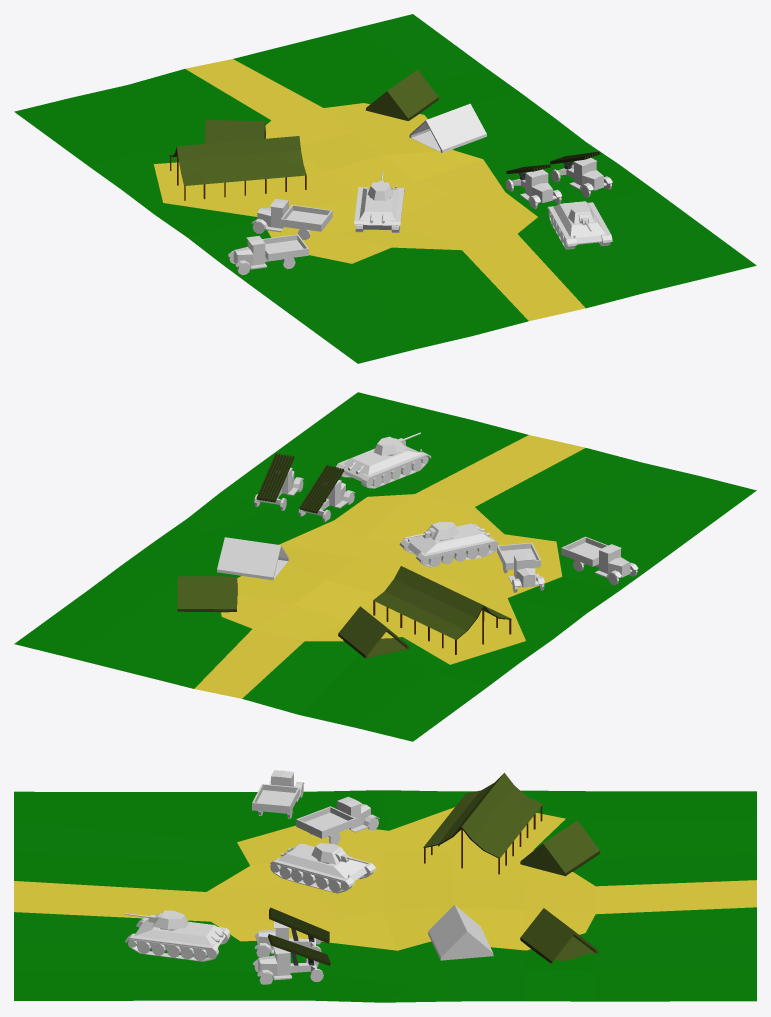
File: MainMenuScene.fbx
The picture shows the model from 3 angles, top to bottom: view 1: azimuth 30°, elevation 25°; view 2: azimuth 150°, elevation 25°; view 3: azimuth 270°, elevation 25°; orthographic projection. The views are drawn at different scales.
Visible parts, largest first — view 1: Plane, Tent, ArmyTent, ArmyTent.001, Hull.001, Hull, ArmyTent.002, Zis.003, Zis.002, Zis.001, ZisBox, Zis (+1 smaller); view 2: Plane, Tent, Hull, Hull.001, ArmyTent, ArmyTent.001, ArmyTent.002, Zis.001, ZisKatyusha.001, ZisKatyusha, Zis, ZisBox.001 (+3 smaller); view 3: Plane, Tent, Hull.001, Hull, ArmyTent.002, ArmyTent, ArmyTent.001, Zis.003, ZisBox, ZisBox.001, Zis, Zis.002 (+5 smaller).
Part boxes in pixels (left/top/right/bottom): Plane: left=14, top=14, right=756, bottom=363; Tent: left=169, top=136, right=306, bottom=200; ArmyTent: left=409, top=103, right=486, bottom=152; ArmyTent.001: left=365, top=69, right=438, bottom=120; Hull.001: left=547, top=201, right=612, bottom=249; Hull: left=354, top=185, right=404, bottom=232; ArmyTent.002: left=204, top=120, right=265, bottom=143; Zis.003: left=550, top=158, right=612, bottom=197; Zis.002: left=505, top=169, right=562, bottom=209; Zis.001: left=228, top=235, right=295, bottom=275; ZisBox: left=281, top=205, right=332, bottom=231; Zis: left=251, top=199, right=310, bottom=240; Plane: left=14, top=392, right=756, bottom=741; Tent: left=373, top=566, right=511, bottom=654; Hull: left=399, top=523, right=498, bottom=567; Hull.001: left=336, top=444, right=431, bottom=488; ArmyTent: left=217, top=537, right=288, bottom=580; ArmyTent.001: left=177, top=576, right=237, bottom=612; ArmyTent.002: left=338, top=606, right=409, bottom=658; Zis.001: left=573, top=544, right=638, bottom=585; ZisKatyusha.001: left=256, top=453, right=294, bottom=502; ZisKatyusha: left=299, top=465, right=344, bottom=513; Zis: left=502, top=554, right=544, bottom=592; ZisBox.001: left=561, top=536, right=607, bottom=566; Plane: left=14, top=790, right=756, bottom=1002; Tent: left=423, top=773, right=542, bottom=874; Hull.001: left=125, top=917, right=230, bottom=961; Hull: left=270, top=843, right=376, bottom=893; ArmyTent.002: left=520, top=820, right=600, bottom=876; ArmyTent: left=428, top=905, right=493, bottom=960; ArmyTent.001: left=520, top=908, right=598, bottom=963; Zis.003: left=253, top=946, right=323, bottom=984; ZisBox: left=296, top=806, right=356, bottom=838; ZisBox.001: left=252, top=784, right=299, bottom=813; Zis: left=310, top=796, right=379, bottom=844; Zis.002: left=254, top=921, right=321, bottom=957.
Bounding box in the file's own units: 3691 × 361 × 5494.
